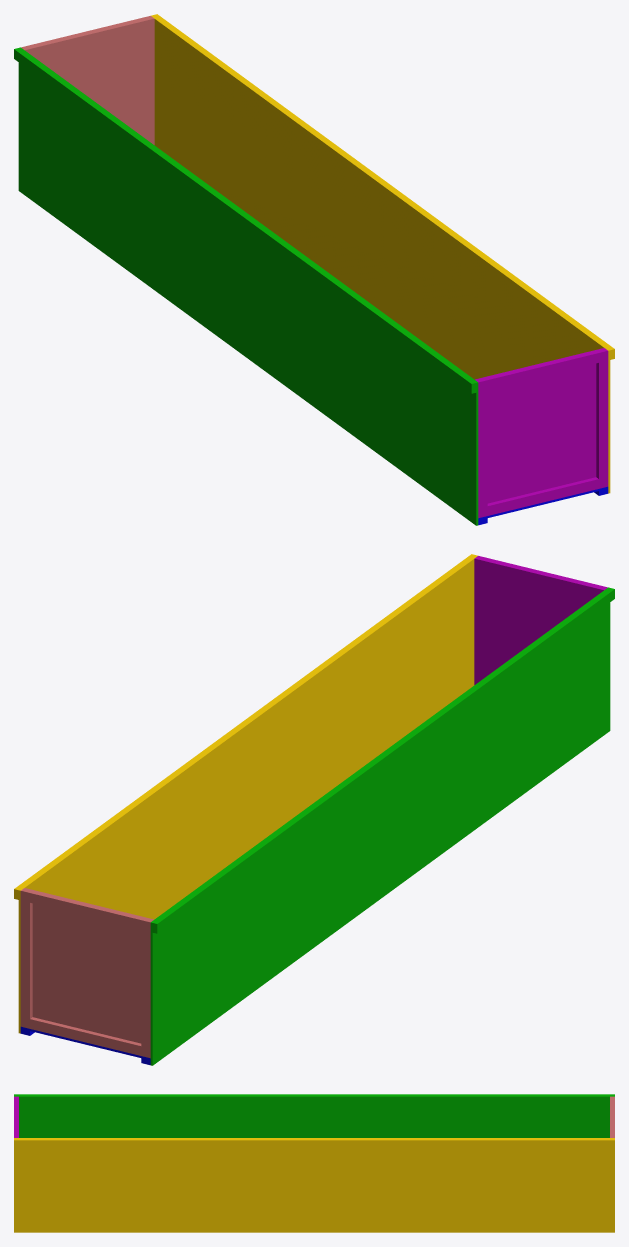
File: result.glb
3 views of the same model, one above another, from view 1: azimuth 30°, elevation 25°; view 2: azimuth 150°, elevation 25°; view 3: azimuth 270°, elevation 25° (orthographic). The views are drawn at different scales.
Parts seen in each view (by area): view 1: 0c1d1b53-a8ca-4f6f-a6dc-3d254f7ba017__Box_6, 4a4c67e5-e5ce-4e2e-8718-32b58858c1d6__undefined, 23f04d47-6caa-4e35-ba82-0ae445f11e67__Box_3, 171a1ef3-2f2a-4340-8590-a63e43f6b418__undefined, 97533422-033c-45bb-aef0-158032dea09f__Box_7, c9190ea7-1fb2-4979-ad0f-a94a0378f0b1__undefined, 0f2c0c04-f11b-4479-9514-76e64a432222__undefined, 4544f1e3-be8a-4055-8906-445be7b0024d__undefined, efcc70ed-da0e-4744-b538-d24d60bdbad4__Box_5, 18041904-2094-424d-9f56-5a25928c975e__Box_4; view 2: 0c1d1b53-a8ca-4f6f-a6dc-3d254f7ba017__Box_6, 4a4c67e5-e5ce-4e2e-8718-32b58858c1d6__undefined, 171a1ef3-2f2a-4340-8590-a63e43f6b418__undefined, 23f04d47-6caa-4e35-ba82-0ae445f11e67__Box_3, 97533422-033c-45bb-aef0-158032dea09f__Box_7, c9190ea7-1fb2-4979-ad0f-a94a0378f0b1__undefined, f4f23531-6cb5-4795-bb68-5bda2d0cbe3c__undefined, a082821d-0a0c-4804-8624-f8d0732f7678__undefined, ca93732e-1b8c-40c3-98d8-4045acbab7df__undefined, 80ebb8e3-f4e1-4a37-96bc-7e0677de6605__undefined; view 3: 4a4c67e5-e5ce-4e2e-8718-32b58858c1d6__undefined, 0c1d1b53-a8ca-4f6f-a6dc-3d254f7ba017__Box_6, c9190ea7-1fb2-4979-ad0f-a94a0378f0b1__undefined, 97533422-033c-45bb-aef0-158032dea09f__Box_7.
Part boxes in pixels (left/top/right/bottom): 0c1d1b53-a8ca-4f6f-a6dc-3d254f7ba017__Box_6: left=18, top=47, right=478, bottom=525; 4a4c67e5-e5ce-4e2e-8718-32b58858c1d6__undefined: left=151, top=15, right=610, bottom=493; 23f04d47-6caa-4e35-ba82-0ae445f11e67__Box_3: left=475, top=348, right=605, bottom=503; 171a1ef3-2f2a-4340-8590-a63e43f6b418__undefined: left=24, top=18, right=154, bottom=144; 97533422-033c-45bb-aef0-158032dea09f__Box_7: left=14, top=48, right=476, bottom=393; c9190ea7-1fb2-4979-ad0f-a94a0378f0b1__undefined: left=153, top=14, right=614, bottom=359; 0f2c0c04-f11b-4479-9514-76e64a432222__undefined: left=596, top=349, right=608, bottom=488; 4544f1e3-be8a-4055-8906-445be7b0024d__undefined: left=485, top=351, right=598, bottom=389; efcc70ed-da0e-4744-b538-d24d60bdbad4__Box_5: left=487, top=477, right=598, bottom=515; 18041904-2094-424d-9f56-5a25928c975e__Box_4: left=476, top=378, right=487, bottom=518; 0c1d1b53-a8ca-4f6f-a6dc-3d254f7ba017__Box_6: left=150, top=587, right=610, bottom=1065; 4a4c67e5-e5ce-4e2e-8718-32b58858c1d6__undefined: left=18, top=555, right=477, bottom=1033; 171a1ef3-2f2a-4340-8590-a63e43f6b418__undefined: left=23, top=888, right=153, bottom=1043; 23f04d47-6caa-4e35-ba82-0ae445f11e67__Box_3: left=474, top=558, right=604, bottom=684; 97533422-033c-45bb-aef0-158032dea09f__Box_7: left=152, top=588, right=614, bottom=933; c9190ea7-1fb2-4979-ad0f-a94a0378f0b1__undefined: left=14, top=554, right=475, bottom=899; f4f23531-6cb5-4795-bb68-5bda2d0cbe3c__undefined: left=20, top=889, right=32, bottom=1028; a082821d-0a0c-4804-8624-f8d0732f7678__undefined: left=30, top=891, right=143, bottom=929; ca93732e-1b8c-40c3-98d8-4045acbab7df__undefined: left=30, top=1017, right=141, bottom=1055; 80ebb8e3-f4e1-4a37-96bc-7e0677de6605__undefined: left=141, top=918, right=152, bottom=1058; 4a4c67e5-e5ce-4e2e-8718-32b58858c1d6__undefined: left=14, top=1138, right=614, bottom=1232; 0c1d1b53-a8ca-4f6f-a6dc-3d254f7ba017__Box_6: left=14, top=1096, right=614, bottom=1137; c9190ea7-1fb2-4979-ad0f-a94a0378f0b1__undefined: left=14, top=1138, right=614, bottom=1146; 97533422-033c-45bb-aef0-158032dea09f__Box_7: left=14, top=1094, right=614, bottom=1095.
Bounding box in the file's own units: 552 × 526 × 3052.
